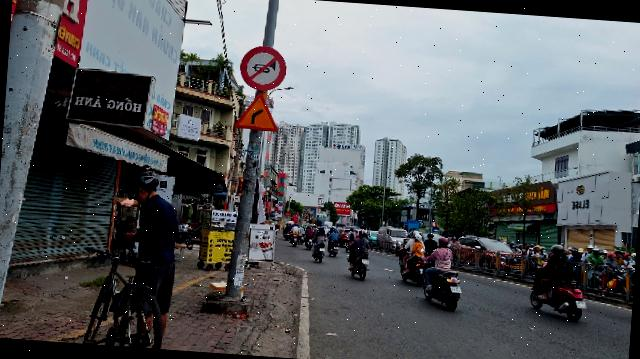cam-bop-coi: (238, 43, 288, 92)
cho-ngoat-nguy-hiem-ben-trai: (232, 90, 280, 132)
